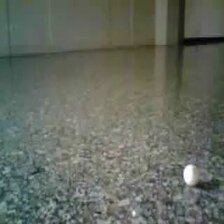w: (183, 164, 200, 185)
